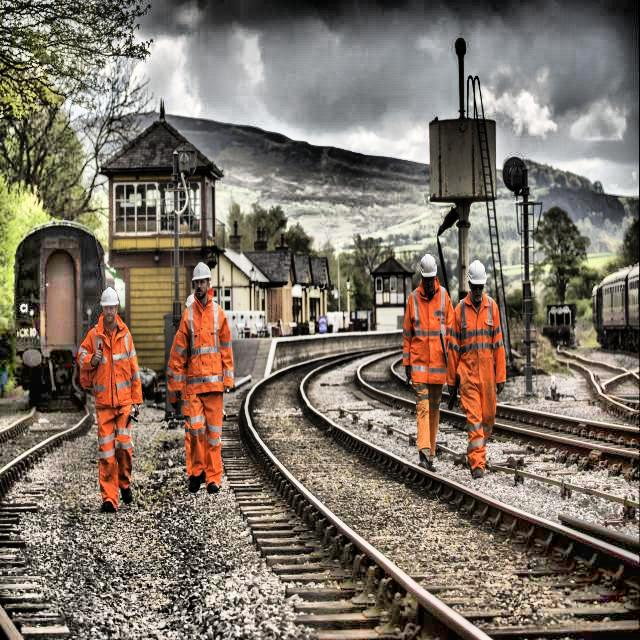person: (165, 253, 238, 500), (76, 274, 148, 514), (456, 240, 510, 484), (403, 248, 448, 462)
